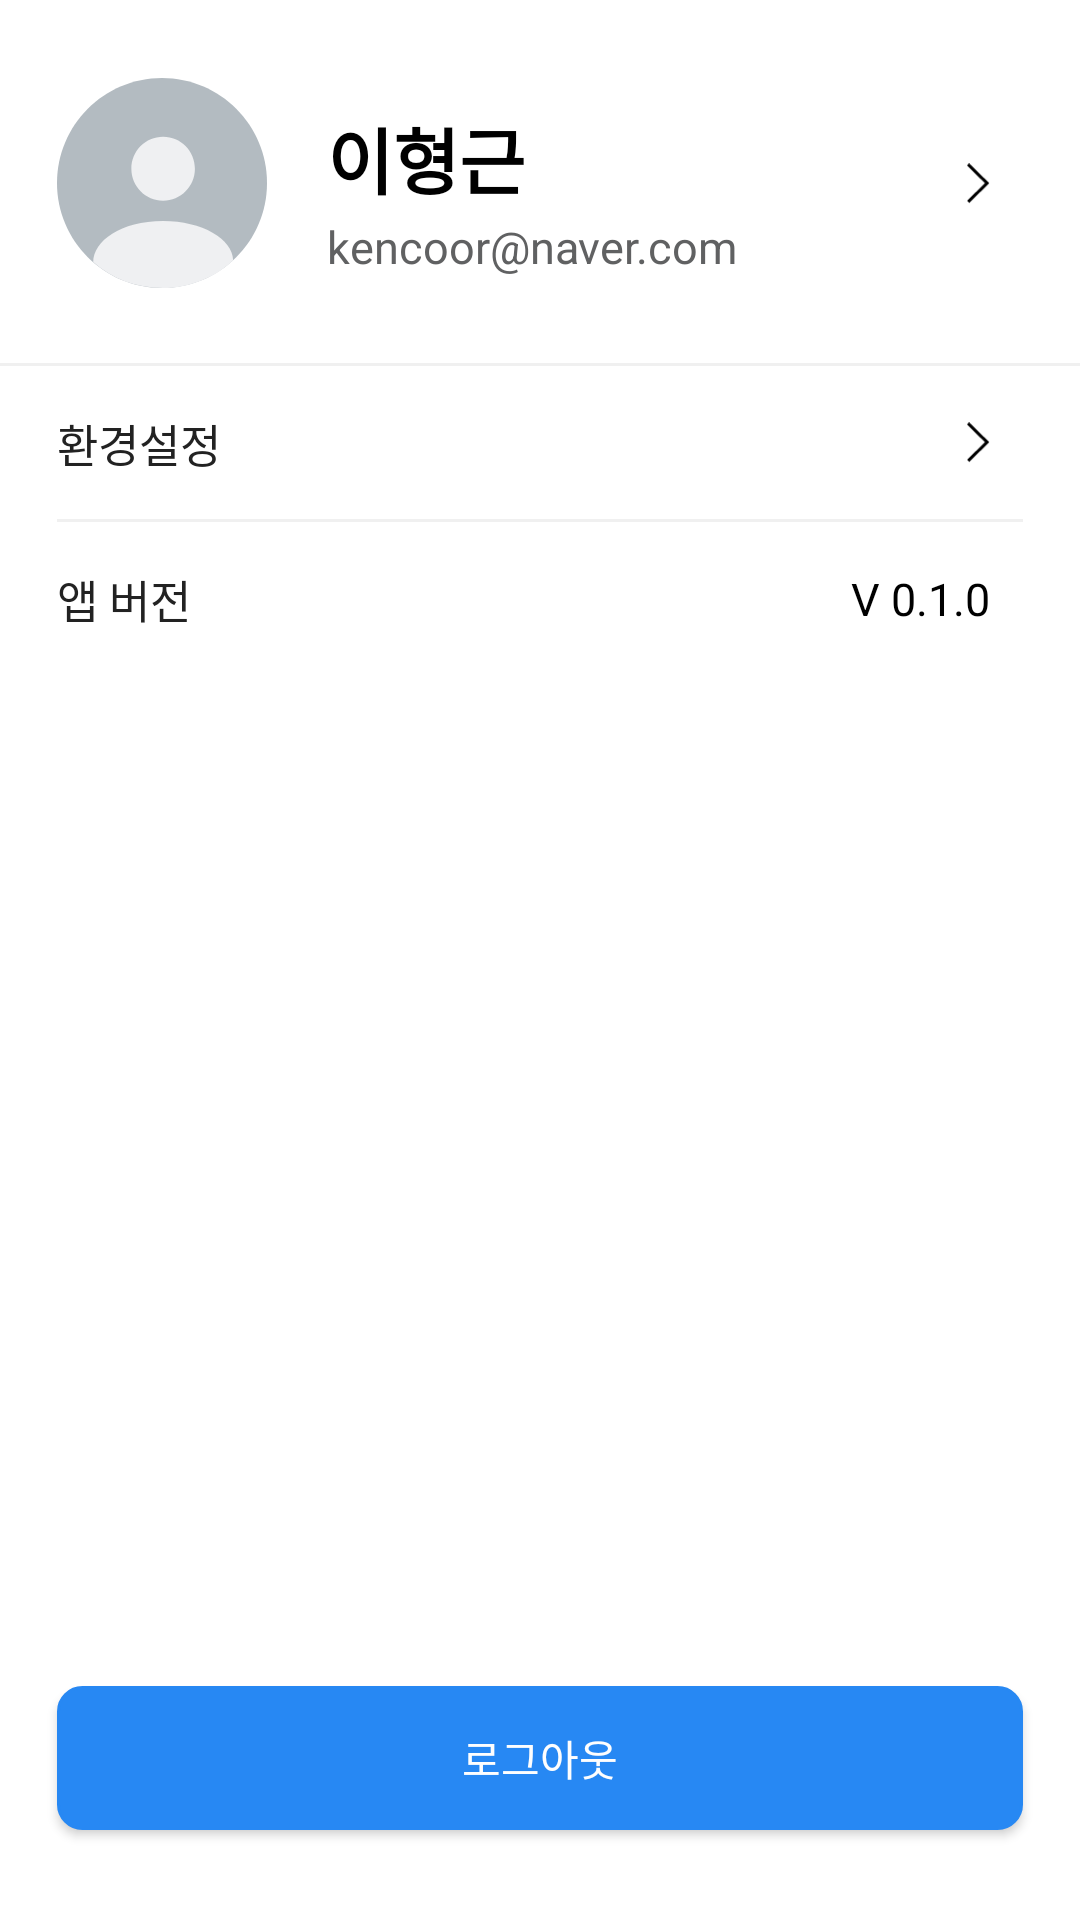

Named icons in this screenshot (1080px x 1920px) and their bounding boxes, (x1, y1, x2, y2):
profile: (57, 78, 267, 288)
